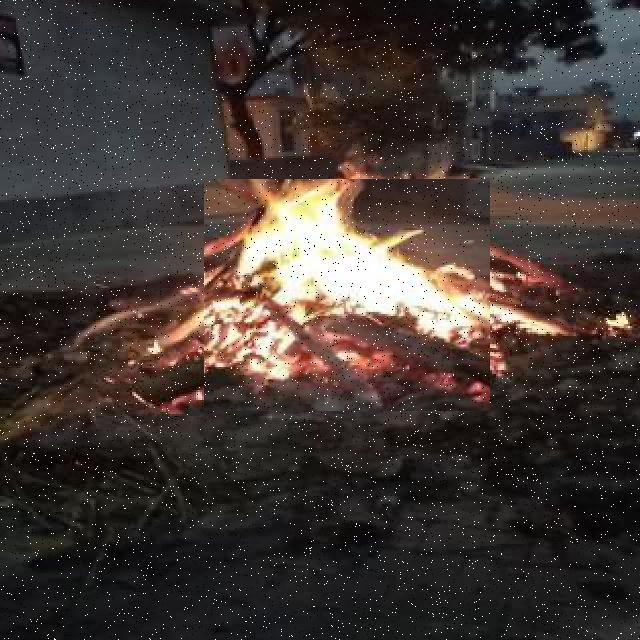fire: (204, 179, 490, 411)
